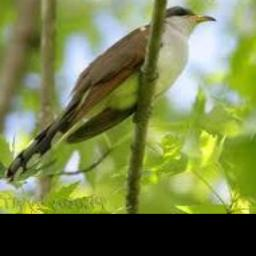Cuckoo: (5, 6, 217, 180)
